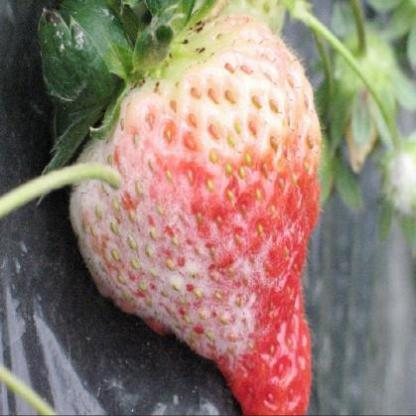Strawberry_Powdery_Mildew_Fruit: (37, 0, 322, 383)
